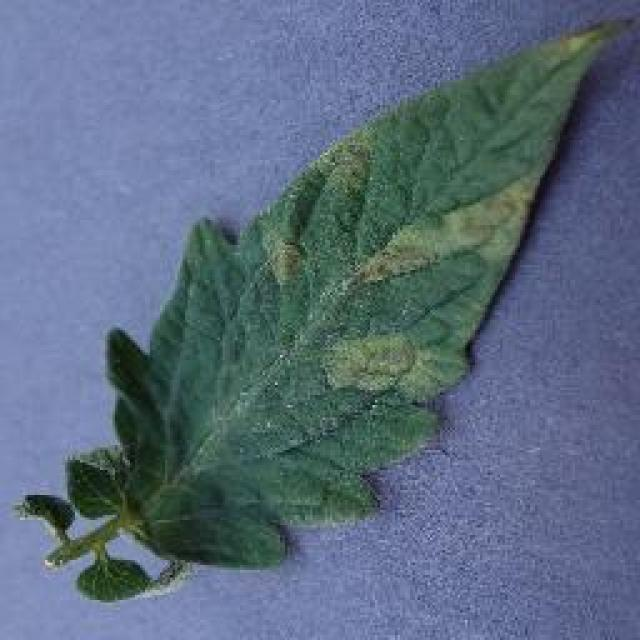Tomato mold leaf: (55, 24, 620, 576)
